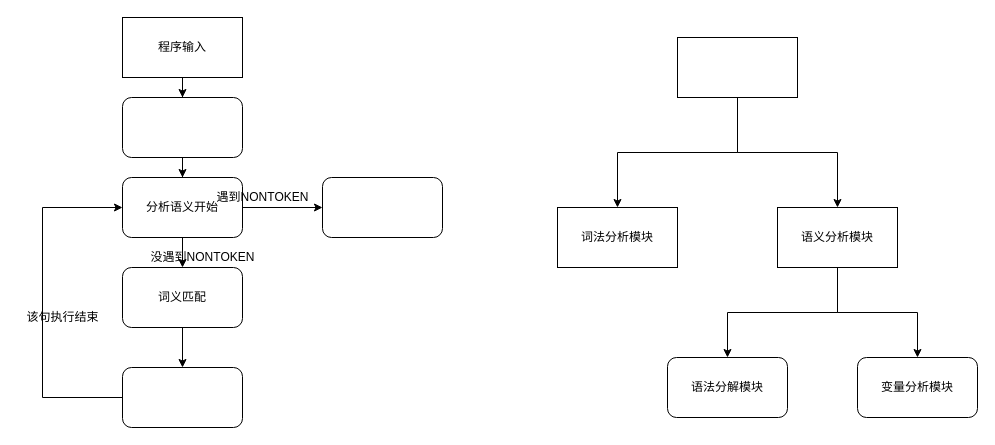
Some shapes in this 995 by 445 pixel diagram are drawn without their labels. Each missing label, with the centre of its shape:
执行对应操作: [182,397]
程序模块图: [737,67]
程序结束: [382,207]
词法分析器分析词: [182,127]
